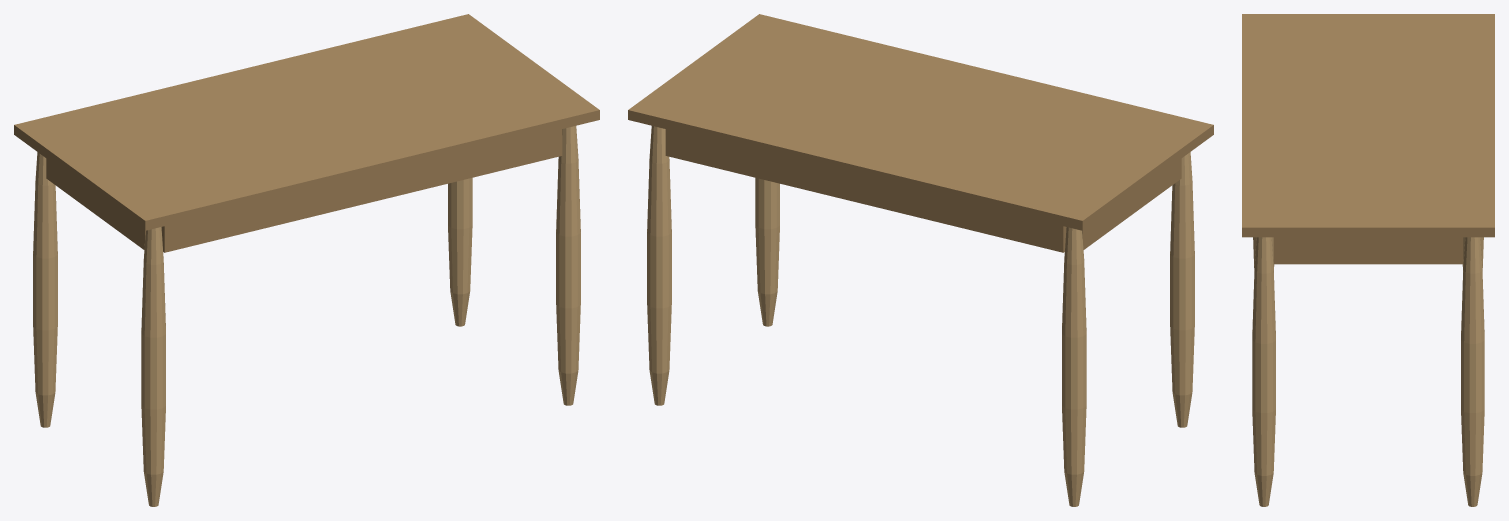
Rendered from SAB-DSK-std.glb.
3 renders of one model, left to right at view 1: azimuth 30°, elevation 25°; view 2: azimuth 150°, elevation 25°; view 3: azimuth 270°, elevation 25°, orthographic. The views are drawn at different scales.
Parts seen in each view (by area): view 1: top:pbr, apron-f:pbr, leg-fl:pbr, leg-fr:pbr, leg-bl:pbr, leg-br:pbr, apron-l:pbr; view 2: top:pbr, apron-b:pbr, leg-bl:pbr, leg-br:pbr, leg-fl:pbr, leg-fr:pbr, apron-l:pbr; view 3: top:pbr, leg-fr:pbr, leg-br:pbr, apron-r:pbr.
Boxes of the visible parts, box(x1,y1,x2,y2) form: top:pbr: box(14, 14, 599, 230); apron-f:pbr: box(161, 129, 562, 252); leg-fl:pbr: box(141, 227, 165, 506); leg-fr:pbr: box(556, 126, 580, 405); leg-bl:pbr: box(33, 152, 57, 427); leg-br:pbr: box(448, 177, 472, 326); apron-l:pbr: box(46, 158, 145, 249); top:pbr: box(628, 14, 1213, 230); apron-b:pbr: box(665, 129, 1066, 252); leg-bl:pbr: box(1062, 227, 1086, 506); leg-br:pbr: box(647, 126, 671, 405); leg-fl:pbr: box(1170, 152, 1194, 427); leg-fr:pbr: box(755, 177, 779, 326); apron-l:pbr: box(1082, 158, 1181, 249); top:pbr: box(1242, 14, 1494, 237); leg-fr:pbr: box(1252, 237, 1275, 506); leg-br:pbr: box(1461, 237, 1484, 506); apron-r:pbr: box(1273, 237, 1463, 264).
Bounding box in the file's own units: 1.2 × 0.75 × 0.6.
